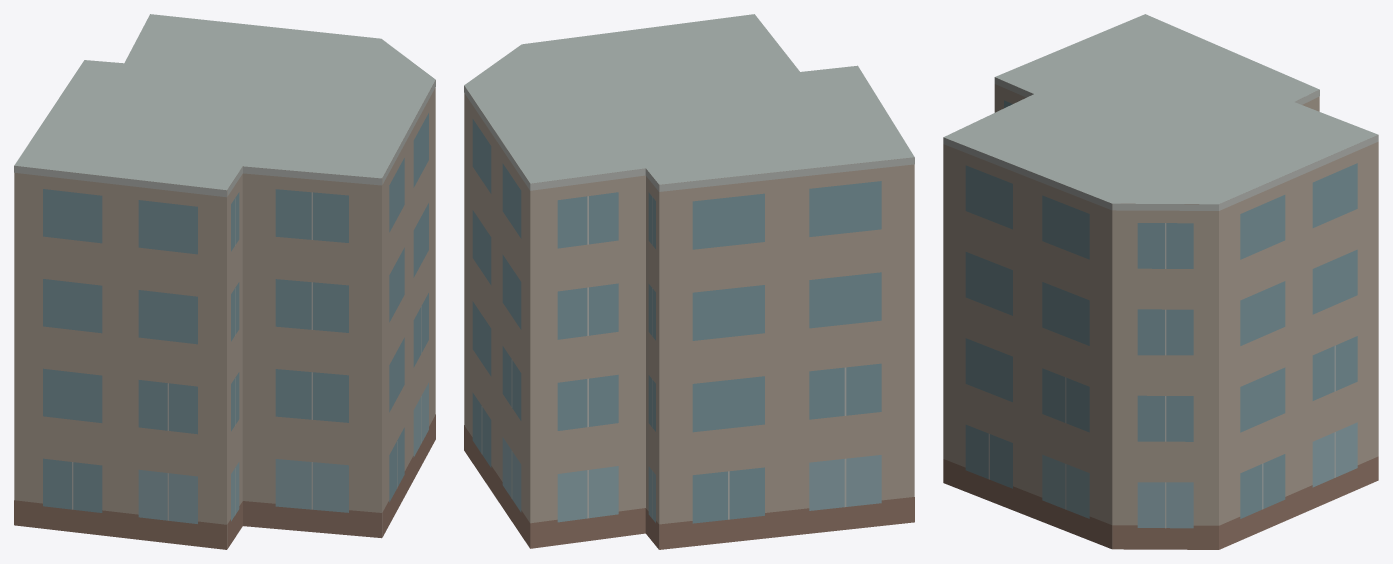
File: survey-upis-32531176.glb
The picture shows the model from 3 angles, left to right: view 1: azimuth 30°, elevation 25°; view 2: azimuth 150°, elevation 25°; view 3: azimuth 270°, elevation 25°; orthographic projection. The views are drawn at different scales.
Parts seen in each view (by area): view 1: survey-upis-32531176.tmp; view 2: survey-upis-32531176.tmp; view 3: survey-upis-32531176.tmp.
Boxes of the visible parts, left/top/right/bottom form: survey-upis-32531176.tmp: left=14, top=14, right=435, bottom=549; survey-upis-32531176.tmp: left=464, top=14, right=914, bottom=549; survey-upis-32531176.tmp: left=943, top=14, right=1378, bottom=549.
Size of the model in its own units: 14.64 by 12.4 by 14.16.
